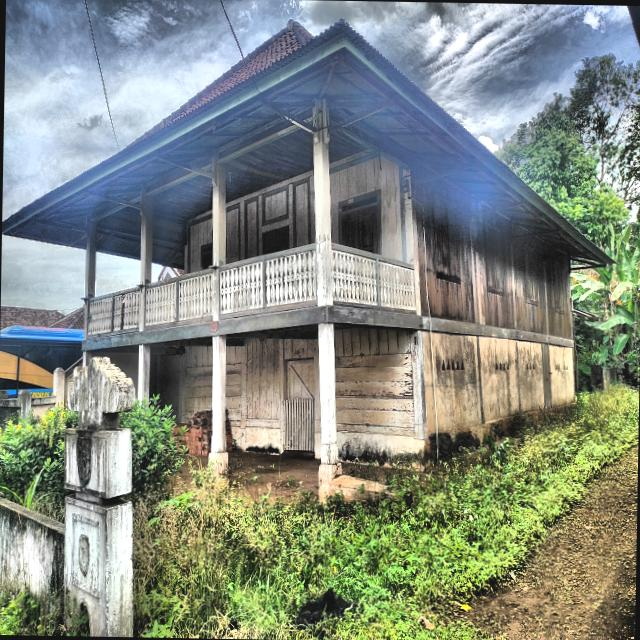column: (313, 106, 341, 506), (208, 163, 227, 476), (137, 198, 152, 408), (82, 219, 95, 366)
door: (283, 358, 313, 452)
ornamen: (85, 244, 419, 340)
roof: (1, 18, 618, 269)
wall: (177, 152, 573, 468)
